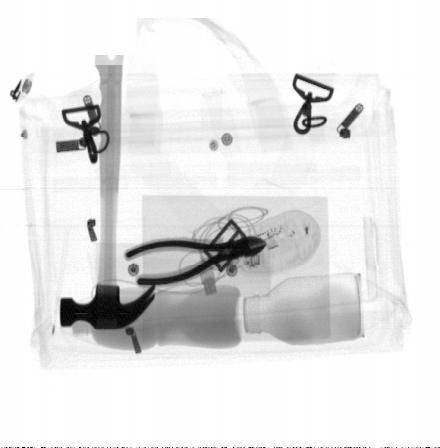Hammer: (59, 41, 156, 330)
Pliers: (124, 235, 269, 289)
